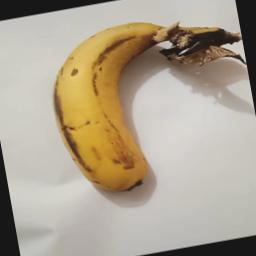Banana Unripe: (35, 5, 256, 206)
